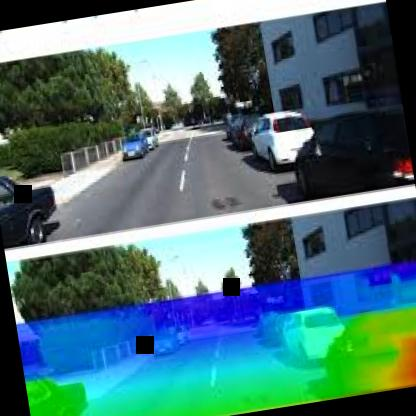car: (282, 101, 414, 202), (0, 149, 74, 251), (247, 104, 325, 179), (266, 305, 350, 367), (120, 124, 154, 160)
